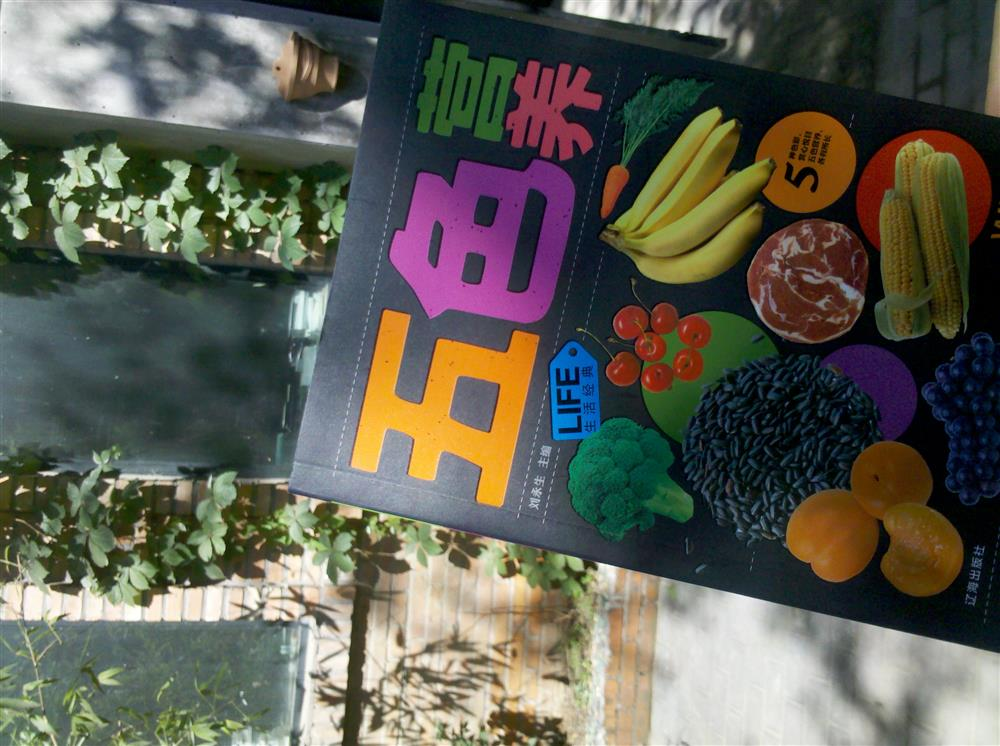Nutrient_Book: (287, 3, 999, 652)
